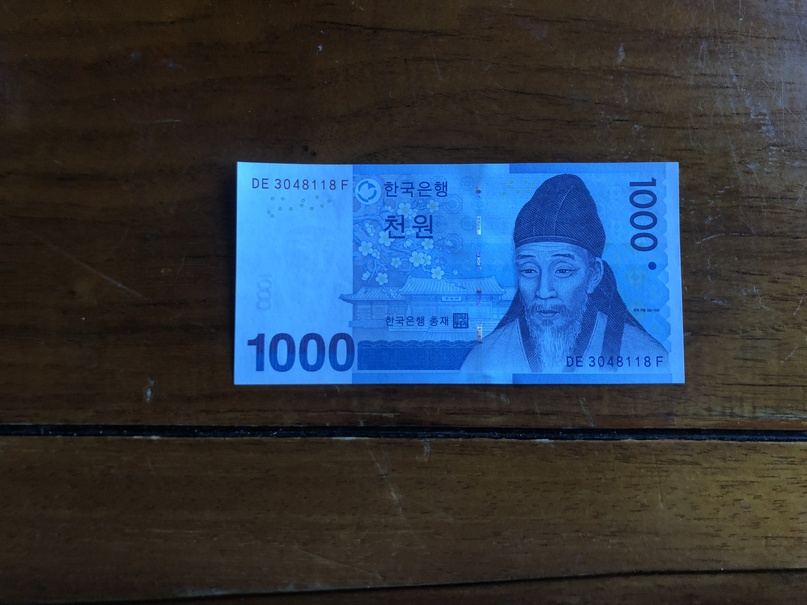1000won: (236, 159, 686, 385)
